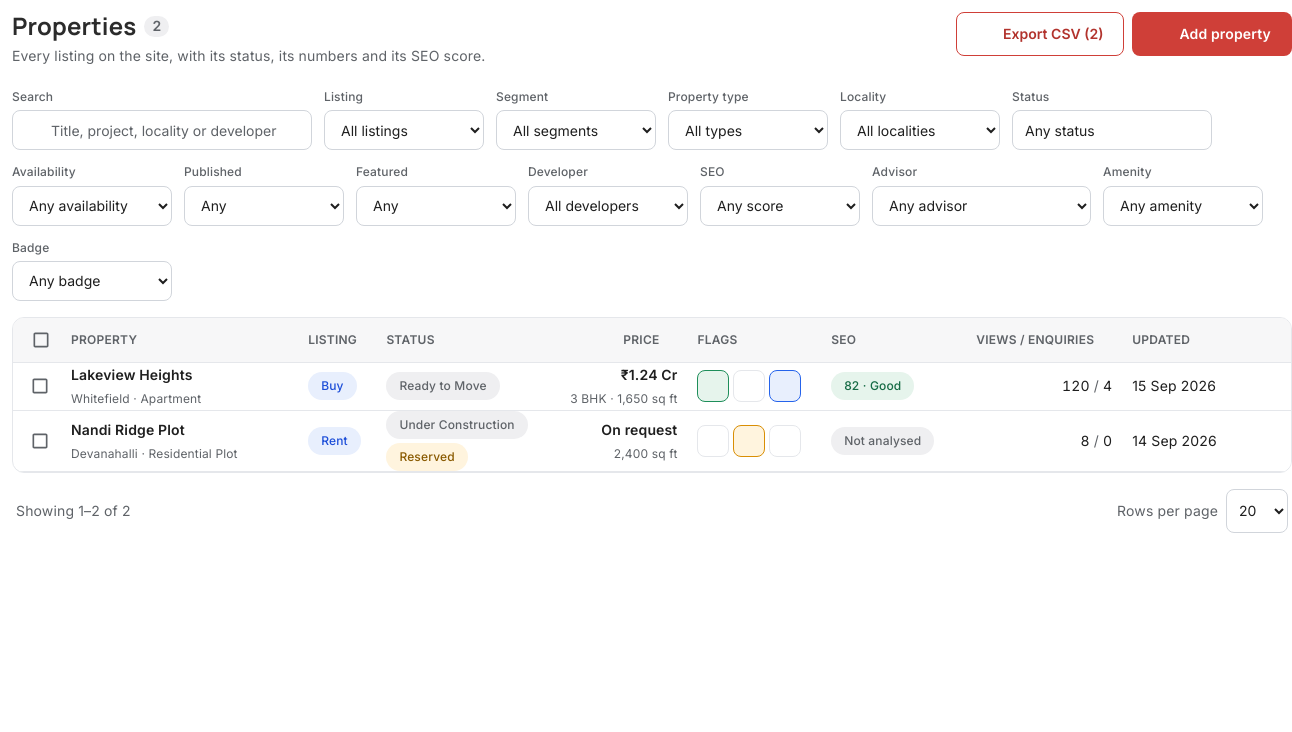
PropertiesListPage › bulk actions › forgets a selection whose rows are no longer on screen
The width and height of the screenshot is (1292, 732).
Check: the link "Lakeview Heights" is shown, box 71,366 -> 192,383
Click the checkbox named "Select Nandi Ridge Plot" at (40, 441), box 30,431 -> 50,451
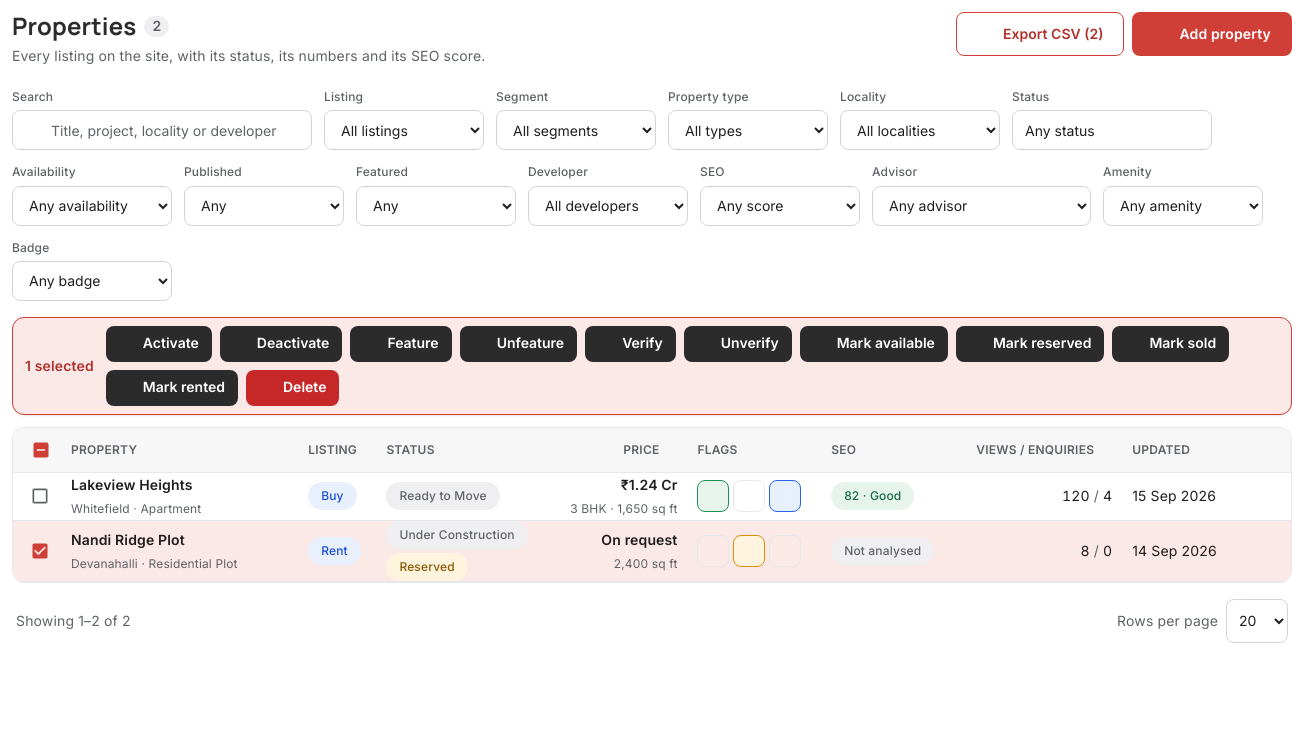
Check: the text "1 selected" is shown, box 25,354 -> 94,377
Select "Buy" in the dropdown labelled "Listing" at (404, 130), box 324,110 -> 484,150
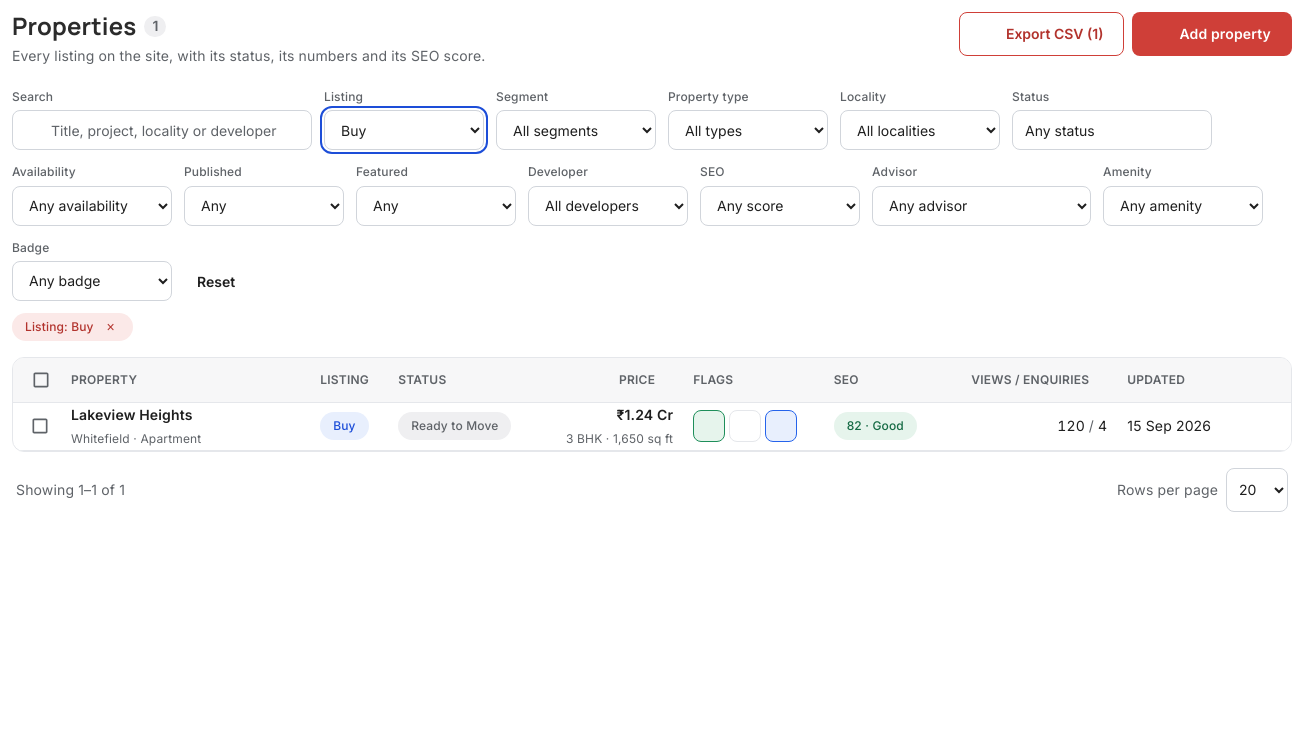
Check: the link "Nandi Ridge Plot" is gone
Check: the text "1 selected" is gone
Check: the button "Deactivate" is gone
